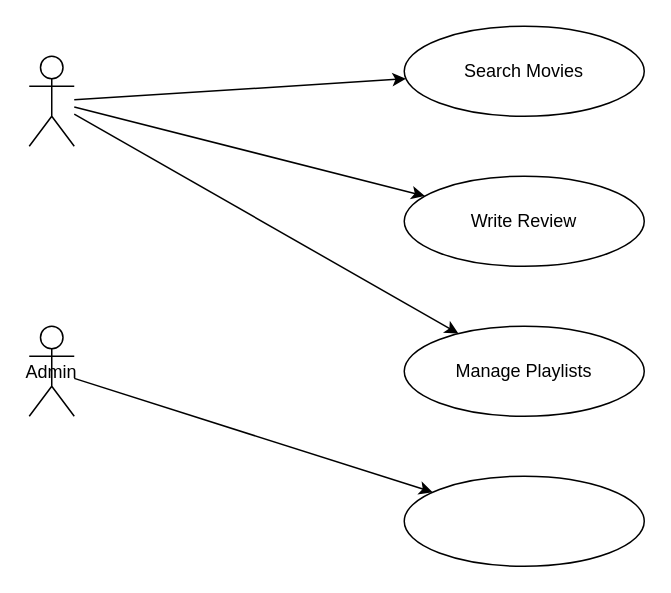
Image size: 671x593. Some labels were removed from this diagram. Here are the shapes that lost their labels. From the top down, the centre of each, then its label:
At point 51,100: "User".
At point 523,520: "Moderate Content".
